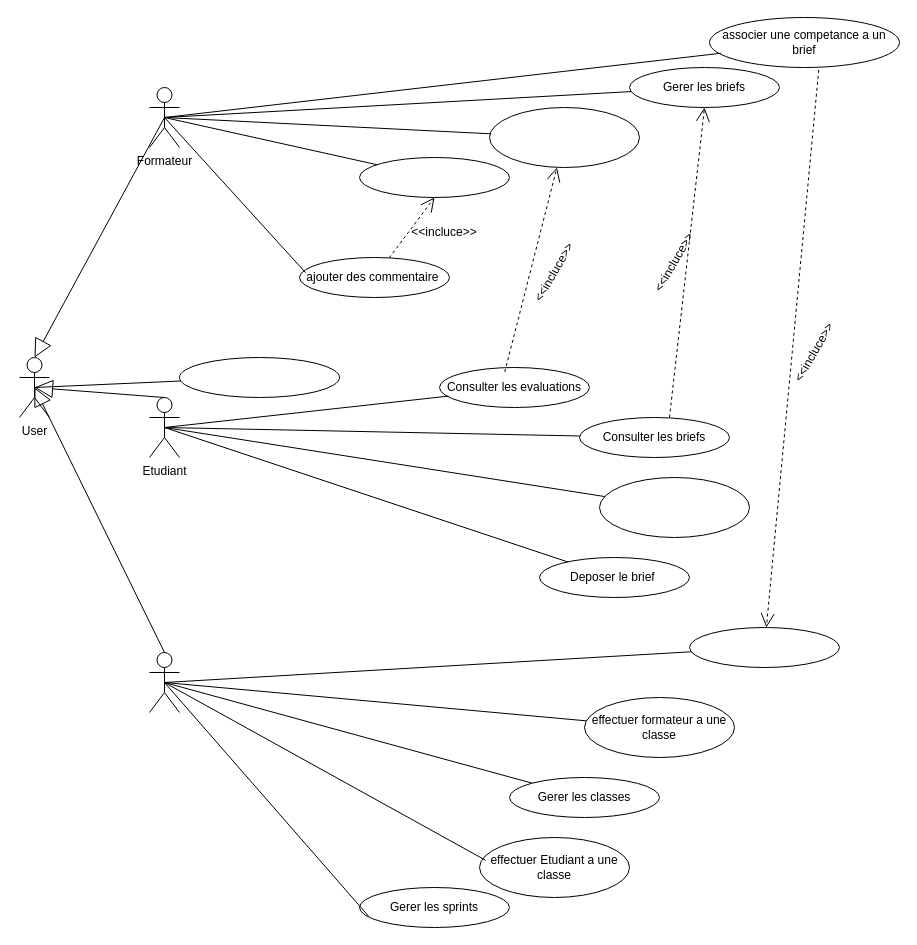
Image size: 917x945. Some labels were removed from this diagram. The centre of each missing label's shape, as x and y in pixels:
Admin: pixel 164 682
evaluer les competances: pixel 564 137
faire le debriefing: pixel 434 177
Gerer les competances: pixel 764 647
s'authentifier: pixel 259 377
Voir son progress: pixel 674 507
